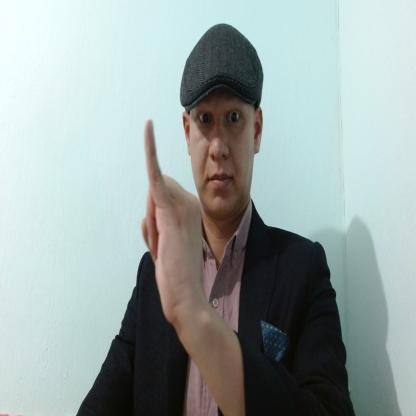I: (141, 118, 205, 320)
